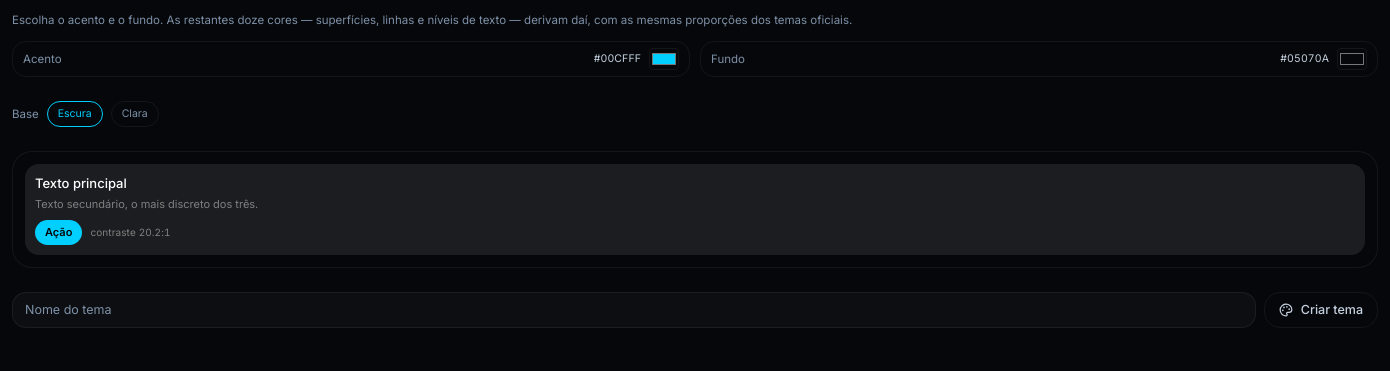
Test: pré-visualização e aviso › avisa quando o resultado não se lê, mas deixa criar na mesma
Base escura à força sobre um fundo branco: texto branco sobre branco.
Type "#ffffff" into the colour field labelled "Fundo" at (1352, 59), box [1337, 48, 1367, 70]
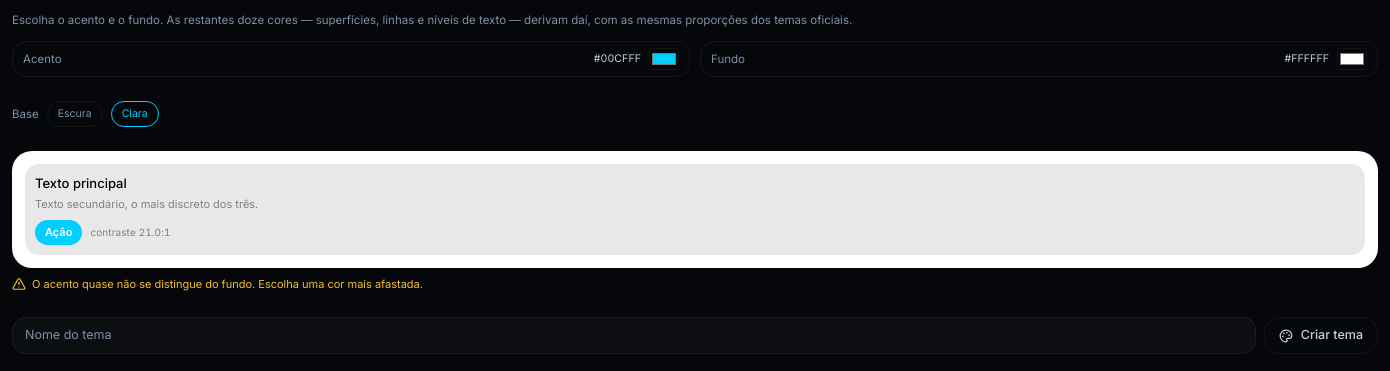
Click the radio button labelled "Escura" at (75, 114), box [47, 101, 103, 127]
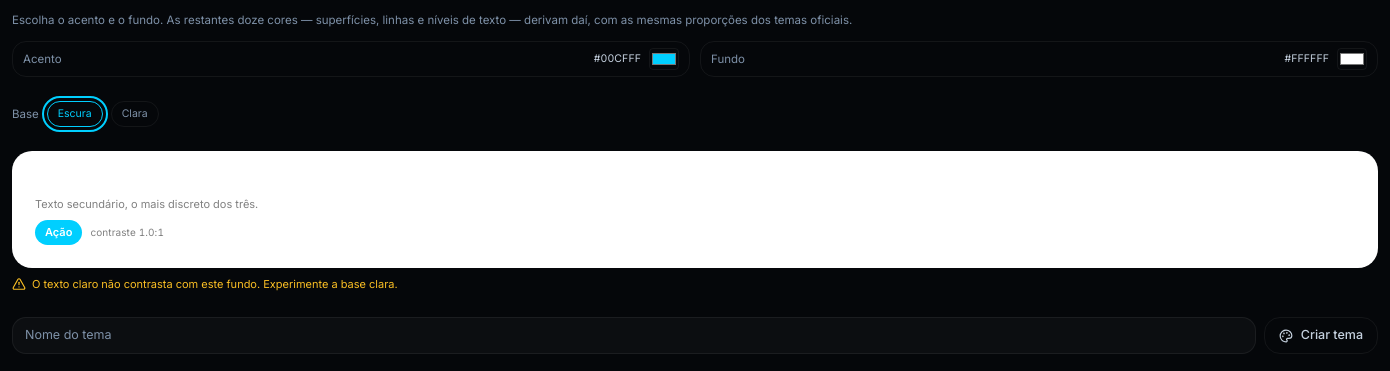
Check: the button "Criar tema" is enabled, box [1264, 317, 1378, 354]
Check: the text "não contrasta" is shown, box [32, 276, 398, 290]
